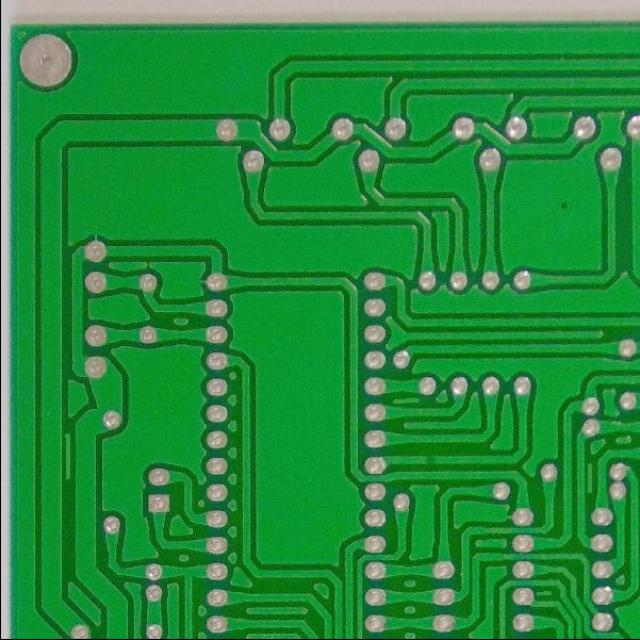Spurious_Cooper: (60, 427, 74, 481), (584, 458, 596, 494), (390, 393, 423, 406)
